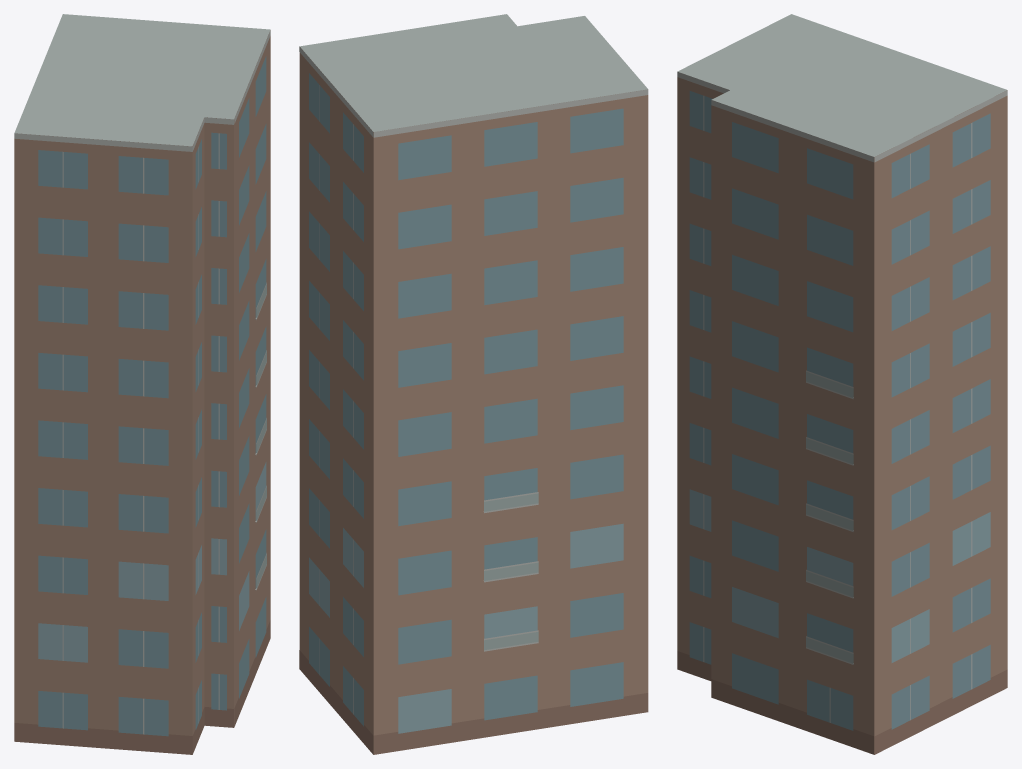
Rendered from survey-upis-33001978.glb.
The picture shows the model from 3 angles, left to right: view 1: azimuth 30°, elevation 25°; view 2: azimuth 150°, elevation 25°; view 3: azimuth 270°, elevation 25°; orthographic projection. The views are drawn at different scales.
Visible parts, largest first — view 1: survey-upis-33001978.tmp; view 2: survey-upis-33001978.tmp; view 3: survey-upis-33001978.tmp.
Part boxes in pixels (left/top/right/bottom): survey-upis-33001978.tmp: left=14, top=14, right=270, bottom=754; survey-upis-33001978.tmp: left=299, top=14, right=648, bottom=754; survey-upis-33001978.tmp: left=677, top=14, right=1007, bottom=754.
Size of the model in its own units: 13.77 by 26.8 by 13.43.
